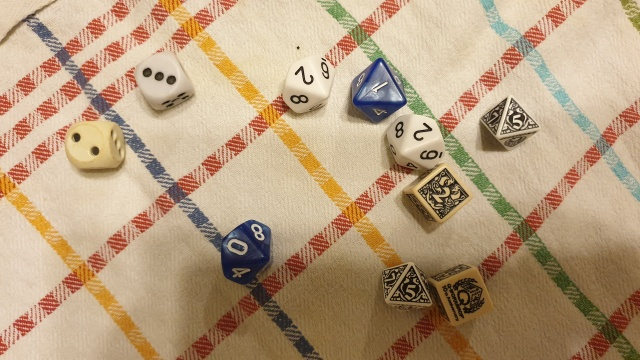d10-1: (346, 51, 406, 128)
d10-10: (213, 218, 281, 289)
d10-2: (382, 113, 450, 177), (277, 50, 336, 116)
d6-2: (62, 118, 128, 174)
d6-3: (129, 48, 197, 116)
d6p-2: (404, 163, 474, 226)
d6p-6: (425, 260, 497, 333)
d8p-5: (481, 90, 543, 159), (378, 253, 434, 320)
